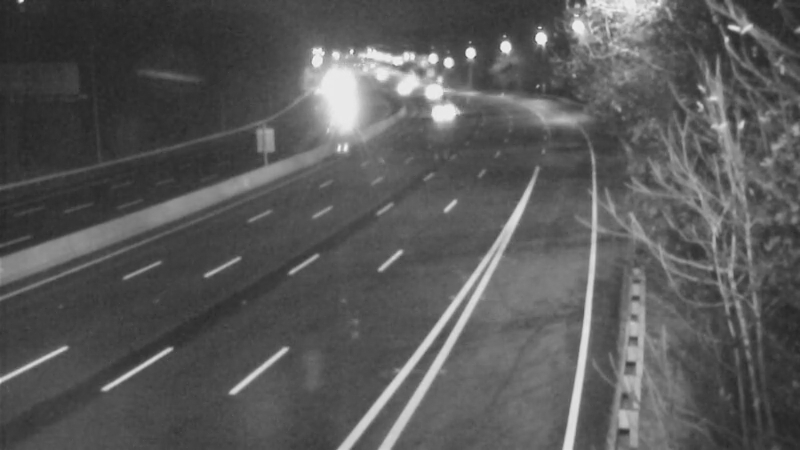vehicle: (353, 50, 403, 100), (375, 64, 425, 114), (410, 67, 460, 117), (414, 86, 464, 136)
